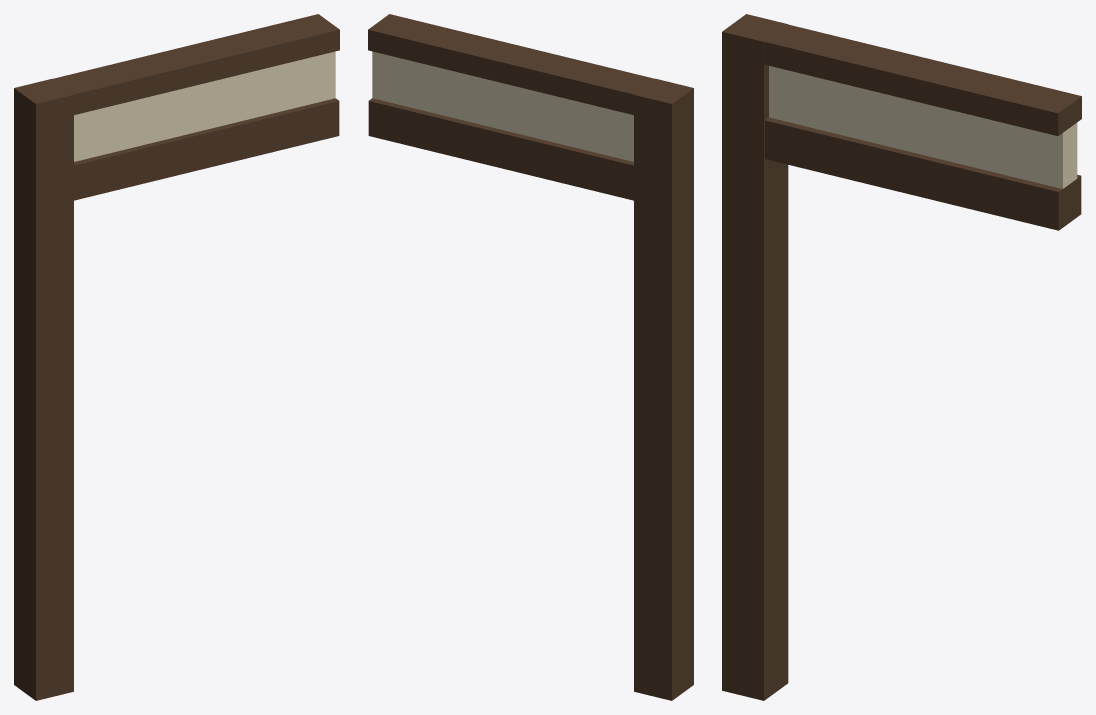
File: door_opening.glb
3 renders of one model, left to right at view 1: azimuth 30°, elevation 25°; view 2: azimuth 150°, elevation 25°; view 3: azimuth 330°, elevation 25°, orthographic. The views are drawn at different scales.
Visible parts, largest first — view 1: Door opening; view 2: Door opening; view 3: Door opening.
Part boxes in pixels (x1=…): Door opening: x1=14, y1=14, x2=339, y2=700; Door opening: x1=368, y1=14, x2=693, y2=700; Door opening: x1=722, y1=14, x2=1081, y2=700.
Bounding box in the file's own units: 1 × 1.88 × 0.125.
